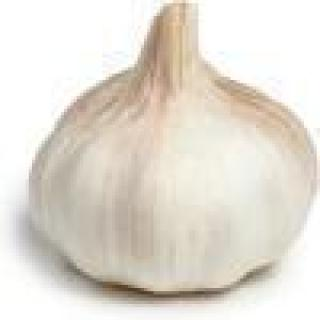Bawang Putih: (27, 7, 312, 289)
